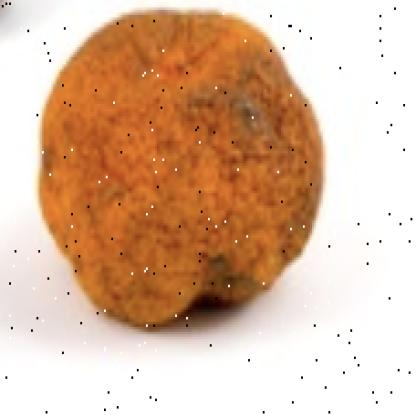rotten: (40, 8, 326, 333)
